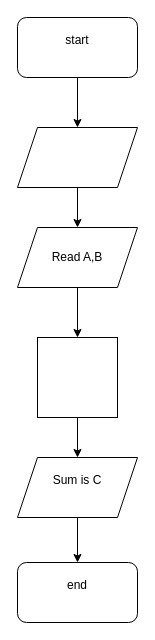
Some shapes in this 155 by 640 pixel diagram are drawn without their labels. Here are the shapes that lost their labels. From the top down, the centre of each, then its label:
At pixel 77 157: "Enter Two No".
At pixel 77 377: "C=A+B".
